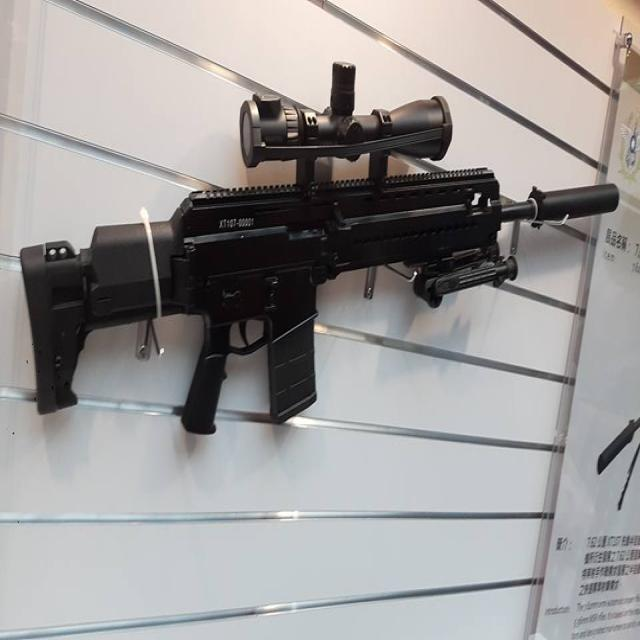Rifle: (19, 65, 621, 437)
